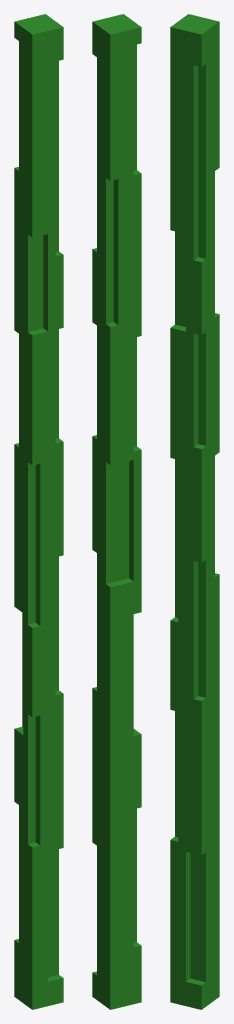
The model's file is vines.obj.
3 views of the same model, side by side, from view 1: azimuth 30°, elevation 25°; view 2: azimuth 210°, elevation 25°; view 3: azimuth 330°, elevation 25° (orthographic).
Bounding box in the file's own units: 0.4 × 12 × 0.4.
Materials: 1 (1 with a texture image).
